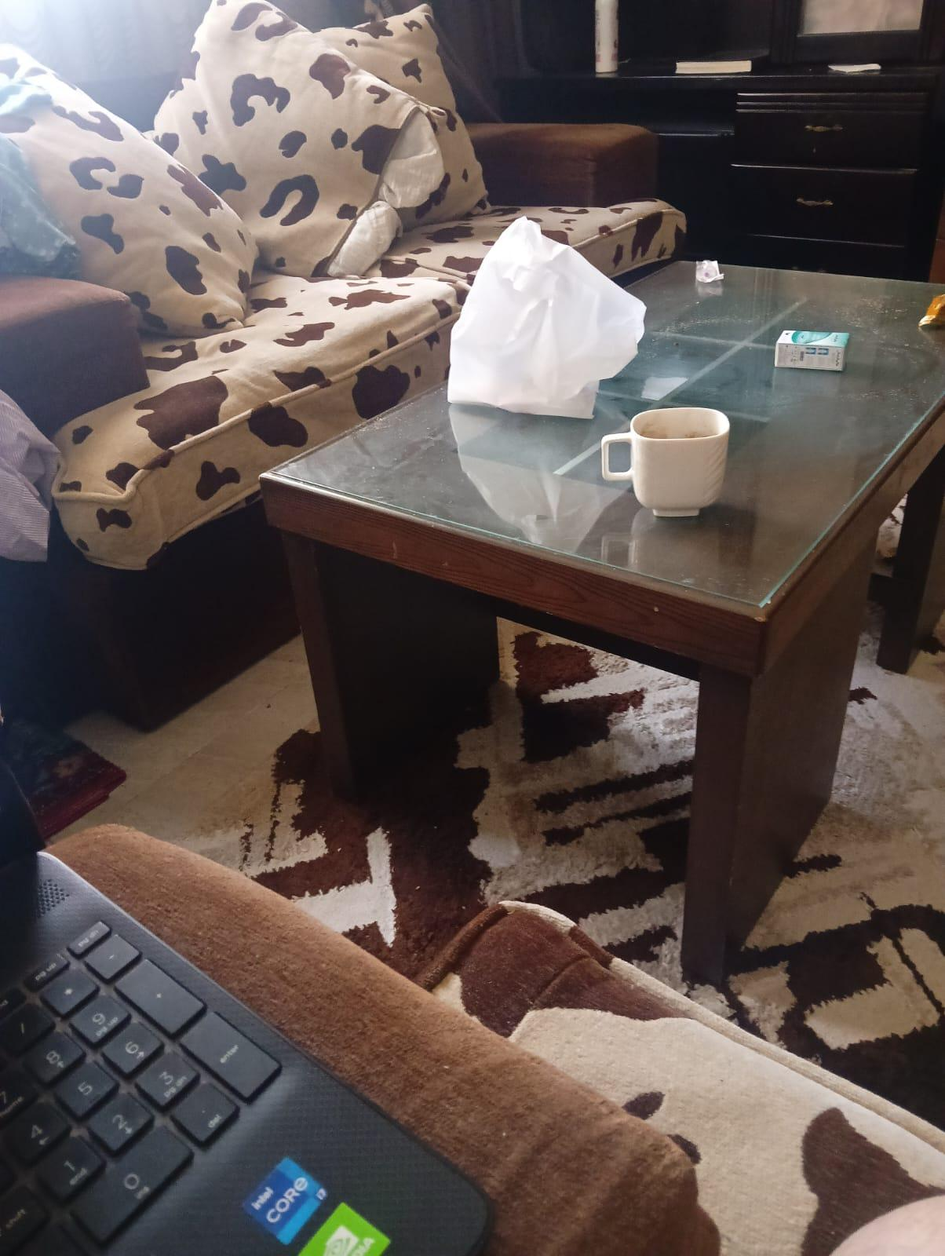cup: (601, 407, 729, 516)
